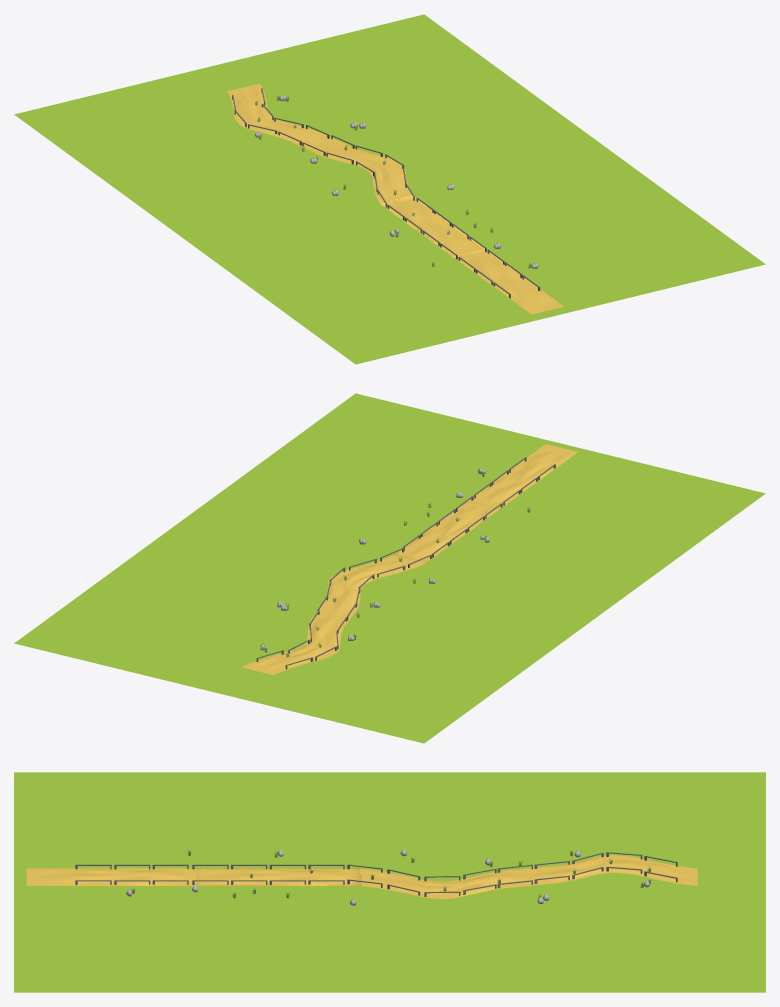
The model's file is background.dae.
3 renders of one model, top to bottom at view 1: azimuth 30°, elevation 25°; view 2: azimuth 150°, elevation 25°; view 3: azimuth 270°, elevation 25°, orthographic. The views are drawn at different scales.
Parts seen in each view (by area): view 1: pPlane2, Terrain.002, Terrain.014, Terrain.022, Terrain.023; view 2: pPlane2, Terrain.002, Terrain.014, Terrain.022, Terrain.023; view 3: pPlane2, Terrain.002, Terrain.023, Terrain.014, Terrain.022.
Boxes of the visible parts, x1,y1,x2,y2 form: pPlane2: (14,14,765,364); Terrain.002: (456,250,563,314); Terrain.014: (227,83,335,147); Terrain.022: (304,139,412,203); Terrain.023: (379,195,487,259); pPlane2: (14,393,765,743); Terrain.002: (469,444,577,506); Terrain.014: (241,611,349,674); Terrain.022: (319,555,424,618); Terrain.023: (394,500,502,563); pPlane2: (14,772,765,992); Terrain.002: (26,868,195,885); Terrain.023: (192,868,361,885); Terrain.014: (528,855,697,885); Terrain.022: (359,868,528,899).
Bounding box in the file's own units: 148 × 213 × 2.57.
Materials: 3 (2 with a texture image).
